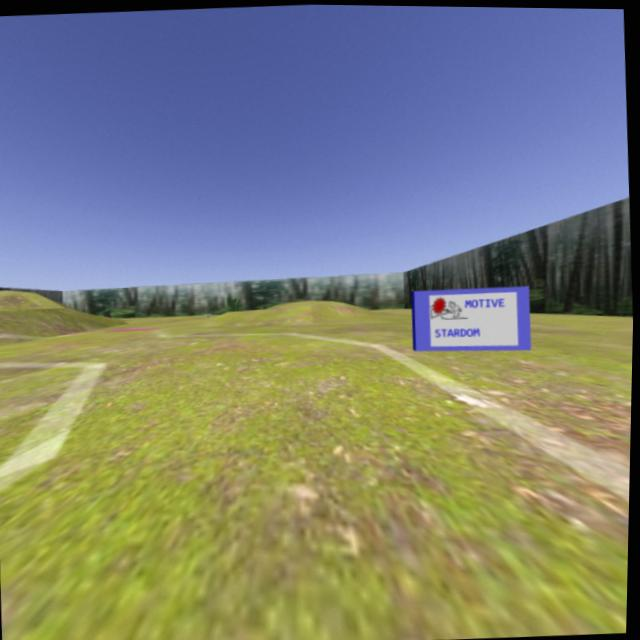clueboard: (408, 281, 538, 360)
